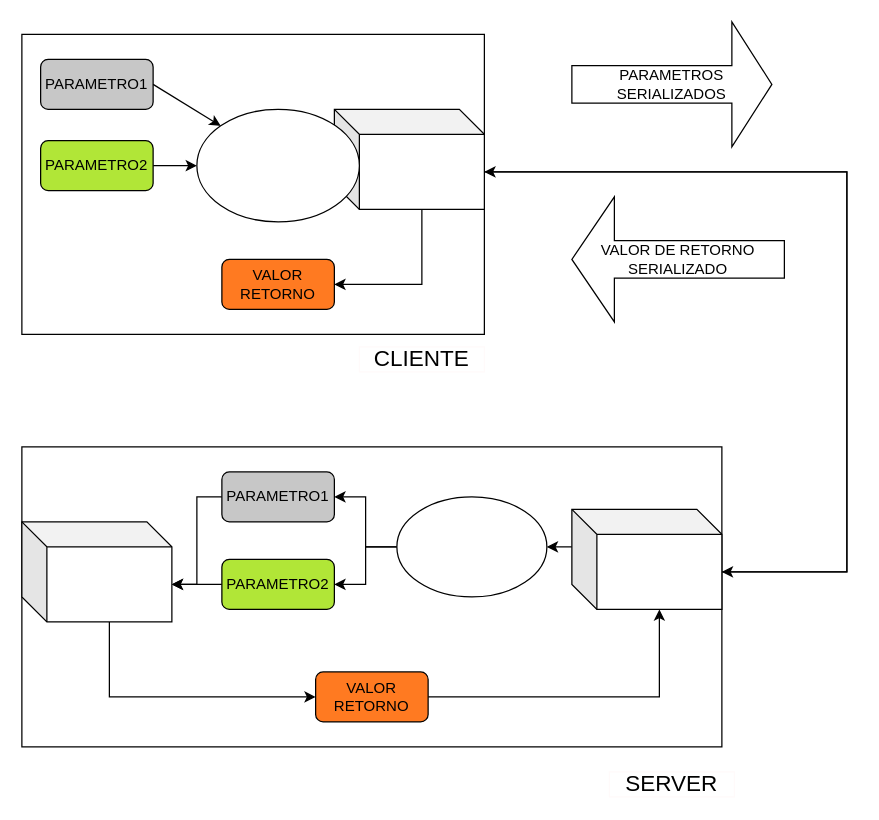
Image size: 879x820. Some labels were removed from this diagram. The shapes that lost their labels are listed below. From the top down, each one's centre as x and y in pixels, then its label:
pixel 277 165: INVOCACION DEL METODO DEL CLIENTE AL SERVIDOR
pixel 408 158: OBJETO STUB
pixel 471 546: INVOCACION DEL METODO EN EL SERVIDOR
pixel 646 558: OBJETO ESKELETON
pixel 96 571: SERVER OBJECT
